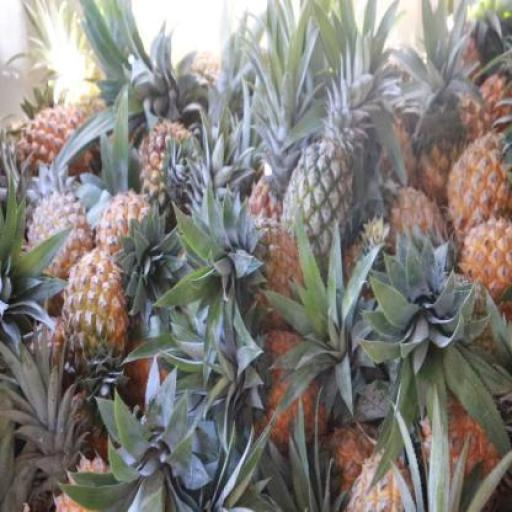Pineapple - v8 v1: (66, 257, 127, 382), (448, 129, 512, 232), (458, 224, 512, 300)
